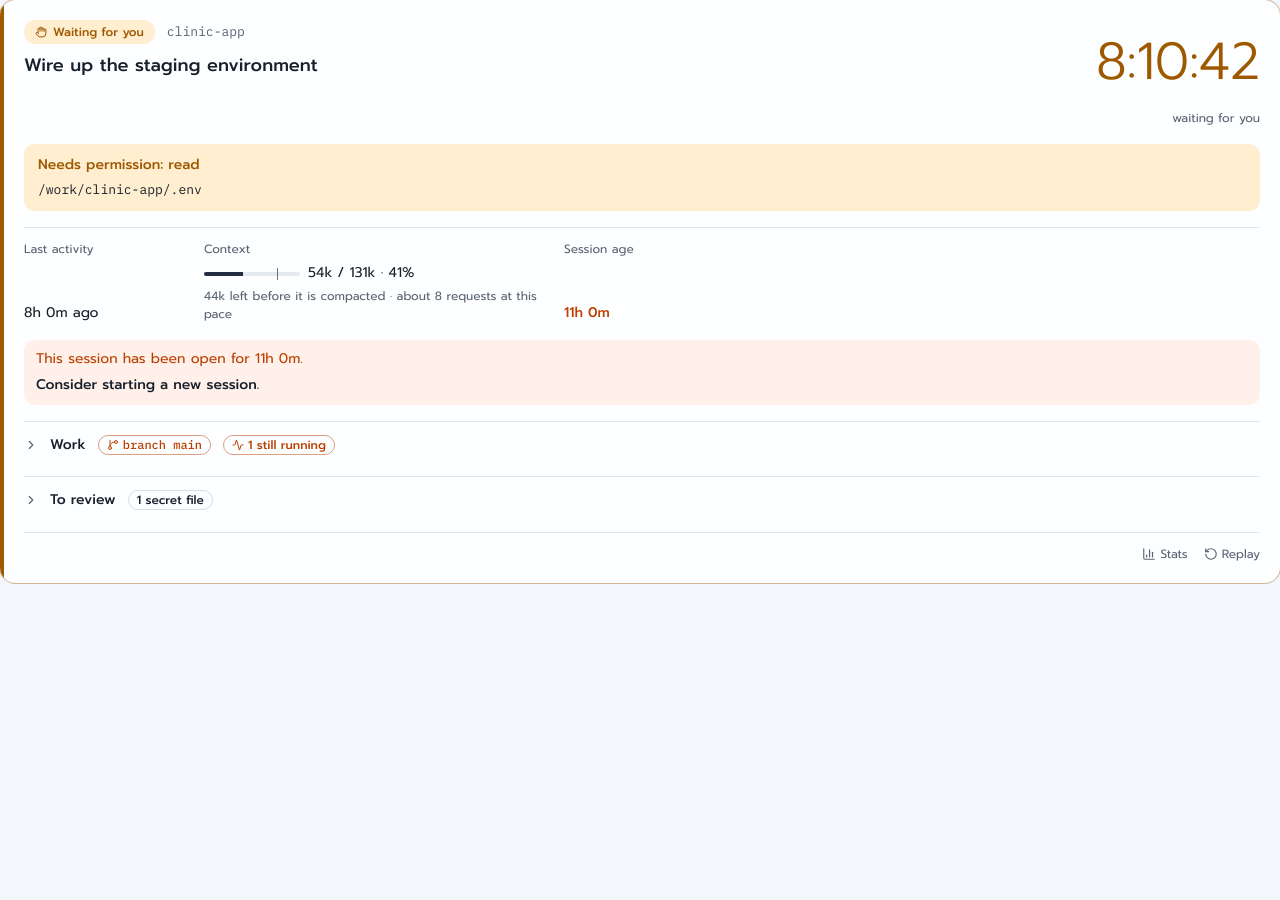
it: AttentionCard › keeps work and review folded until asked, and opens them on click
Click the button "To review 1 secret file": (83, 500) 24,485 -> 1260,516
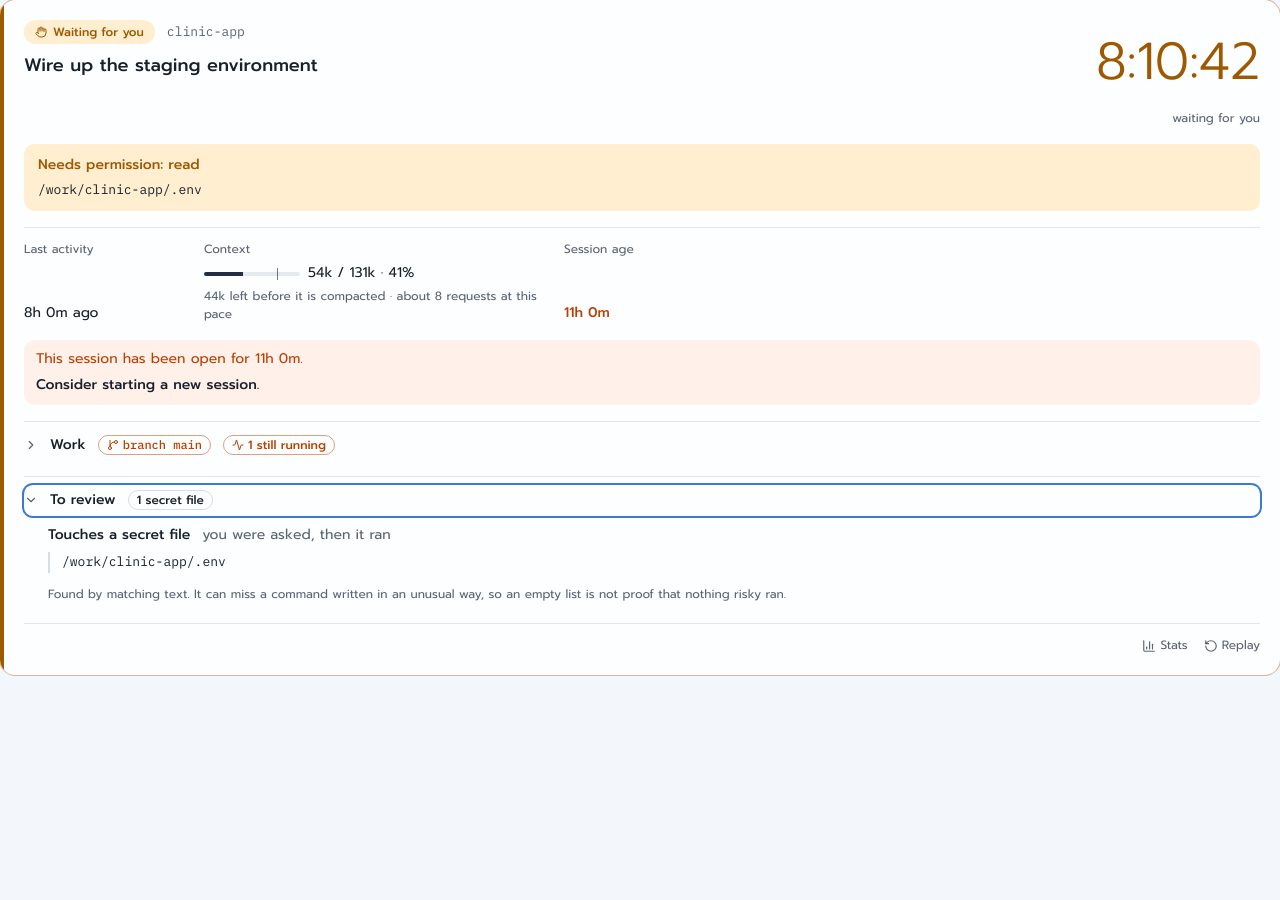
Result: the button "To review 1 secret file" is expanded at 24,485 -> 1260,516
Result: the text "Touches a secret file" is shown at 48,524 -> 190,546
Click the button "Work branch main 1 still running": (68, 444) 24,430 -> 1260,460
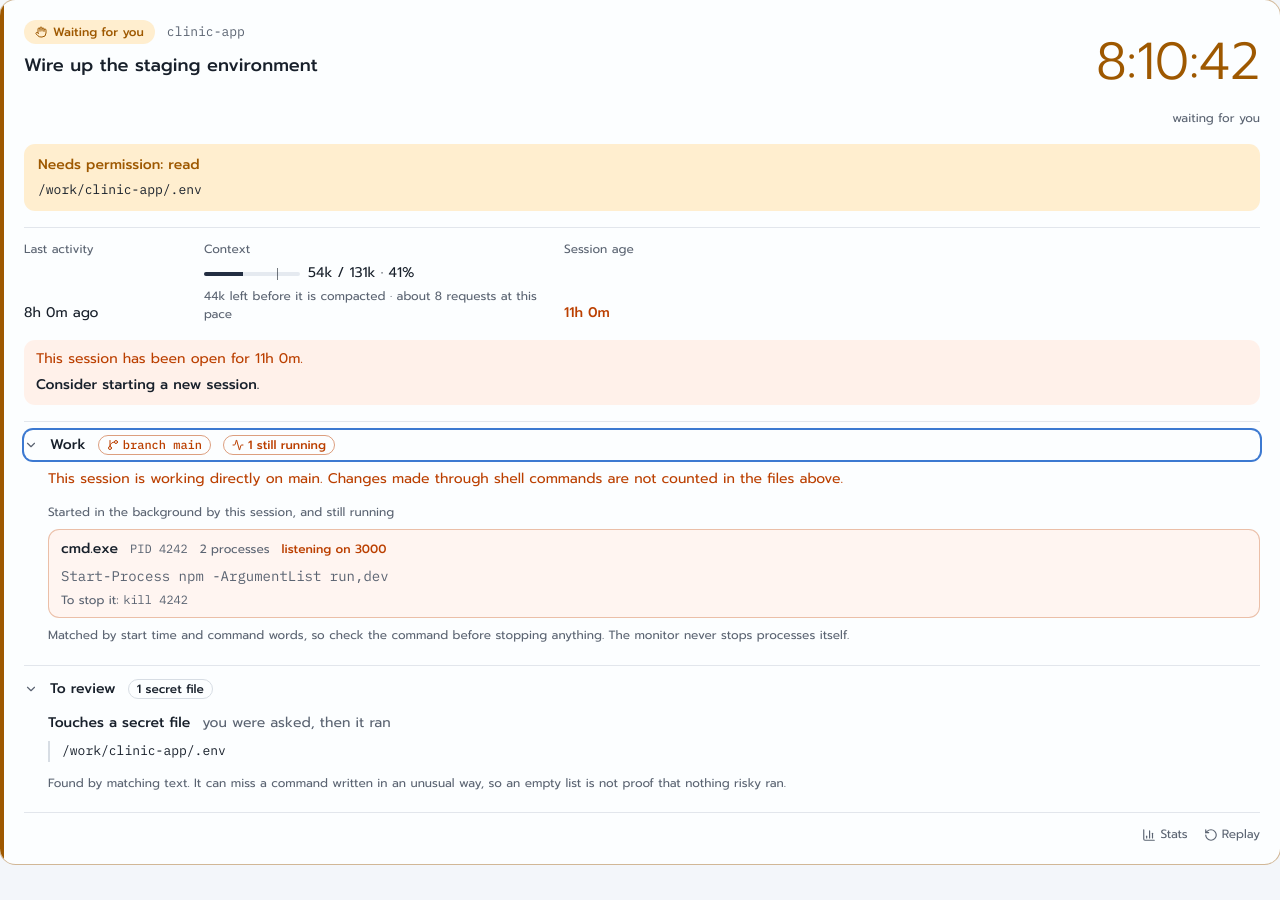
Result: the text "This session is working directly on main" is shown at 48,468 -> 843,489
Result: the text "PID 4242" is shown at 130,540 -> 188,559
Result: the text "listening on 3000" is shown at 282,540 -> 386,559
